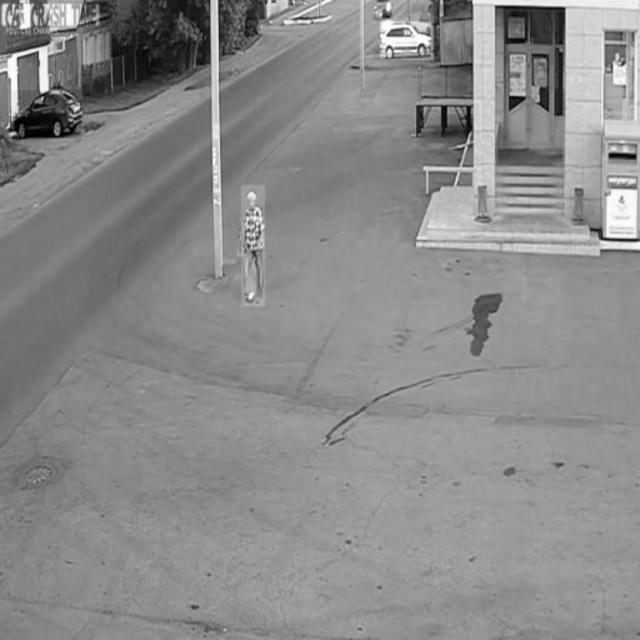person: (241, 185, 265, 306)
vehicle: (13, 90, 81, 138), (379, 21, 433, 59)
